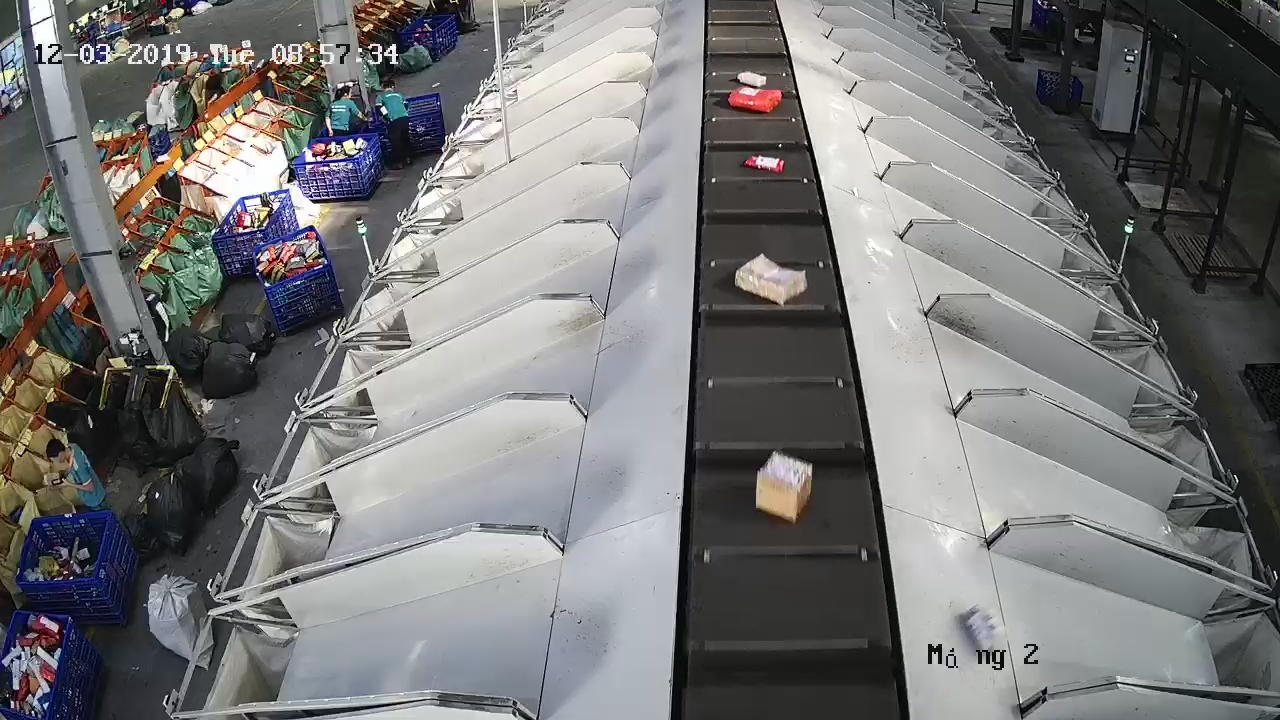parcel: (754, 450, 813, 525), (733, 252, 808, 306), (959, 601, 1000, 650), (743, 154, 785, 174)
